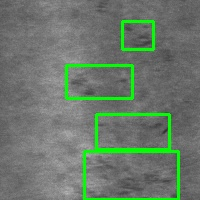rolled-in_scale: (84, 151, 178, 199), (96, 114, 169, 149), (66, 65, 132, 98), (122, 21, 153, 49)
